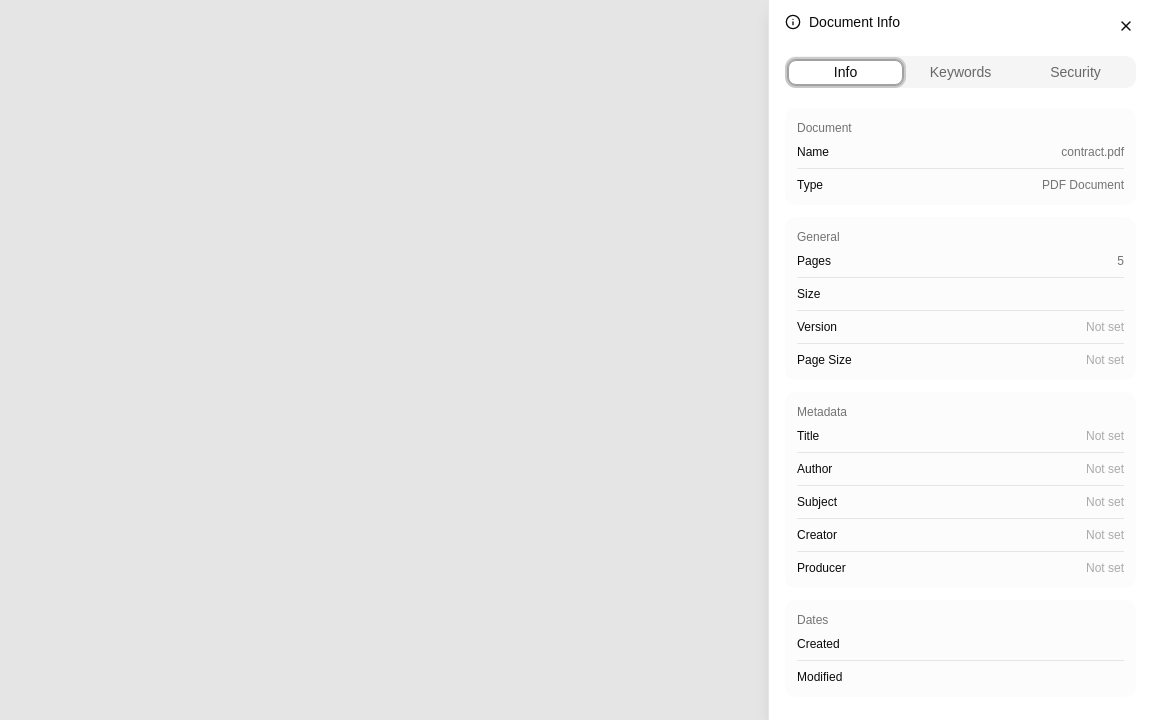
Test: InfoPanel — Security tab › shows 'None' for an unprotected doc
Click the tab "Security".
click(1076, 72)  # box [1018,60,1133,84]
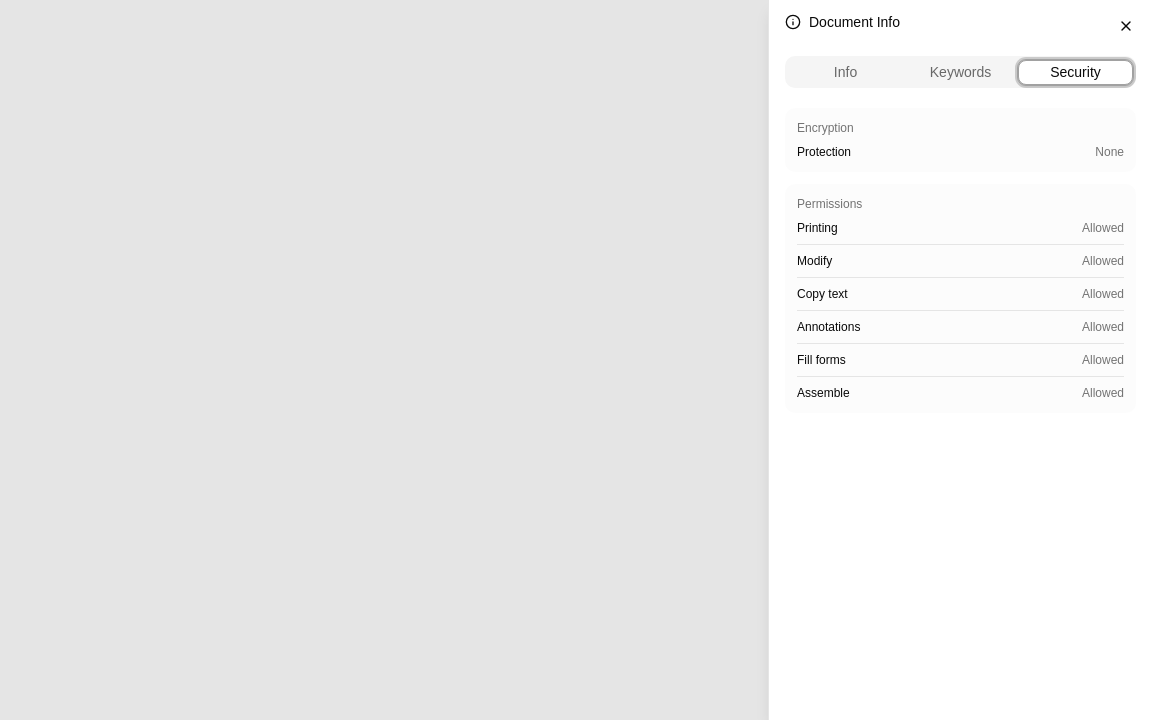
Now the text "None" is shown, box [1095,144,1124,160]
